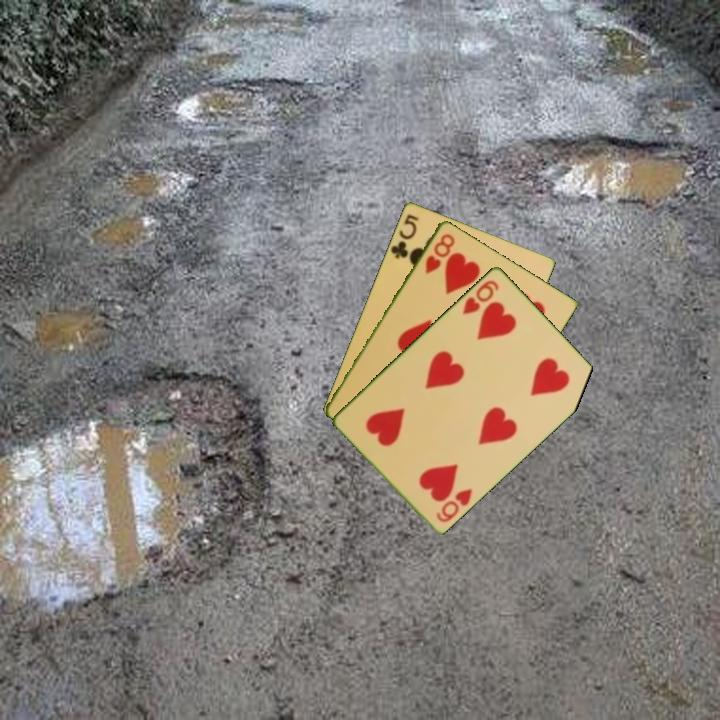5c: (387, 210, 421, 261)
6h: (432, 485, 476, 525), (459, 276, 501, 317)
8h: (421, 230, 458, 277)
